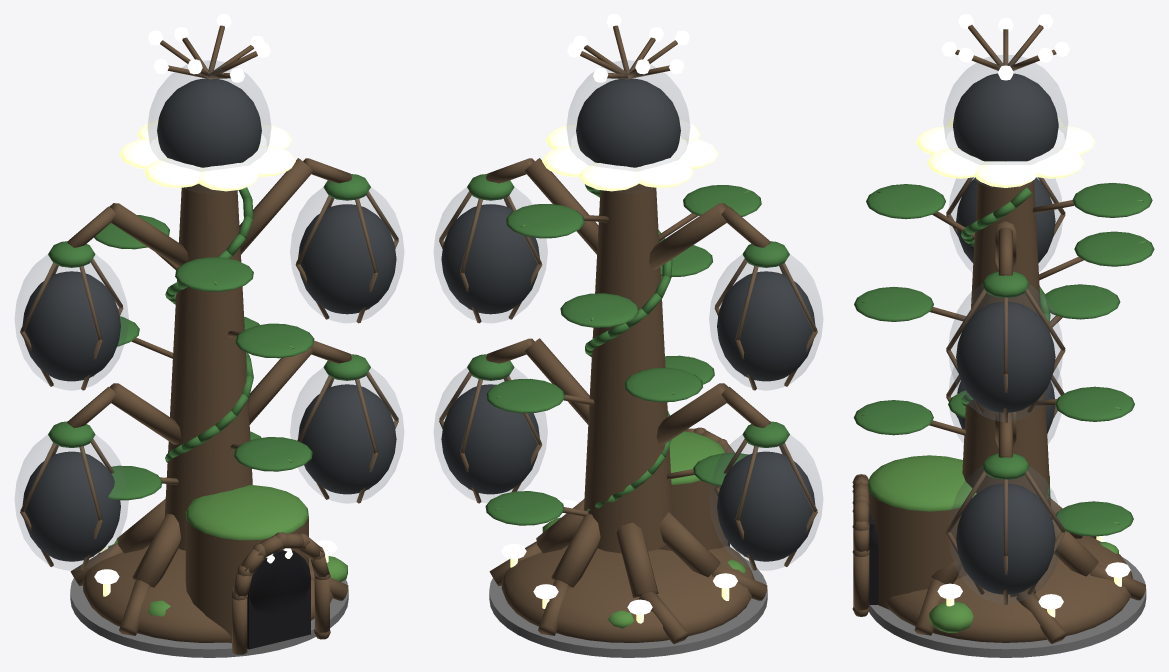
The model's file is BLOOM_Vat_T3.glb.
The picture shows the model from 3 angles, left to right: view 1: azimuth 30°, elevation 25°; view 2: azimuth 150°, elevation 25°; view 3: azimuth 270°, elevation 25°; orthographic projection.
Visible parts, largest first — view 1: BLOOM_Vat_T3; view 2: BLOOM_Vat_T3; view 3: BLOOM_Vat_T3.
Part boxes in pixels (bbox=[...]): BLOOM_Vat_T3: bbox=[15, 14, 403, 657]; BLOOM_Vat_T3: bbox=[434, 14, 822, 657]; BLOOM_Vat_T3: bbox=[852, 14, 1154, 657].
Size of the model in its own units: 5.49 by 8.08 by 3.76.
